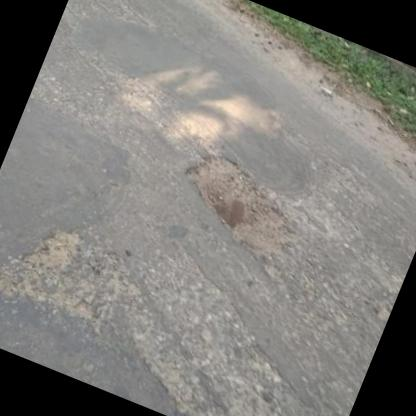pothole: (162, 142, 320, 271), (16, 212, 86, 283)
